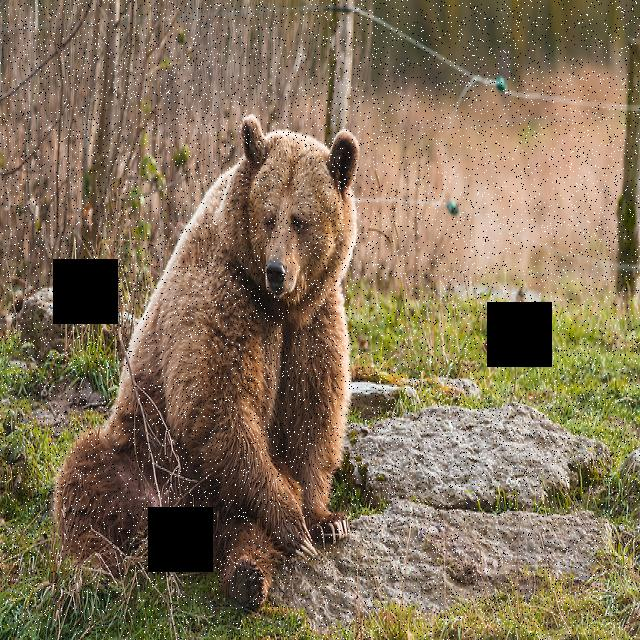Bear: (48, 108, 370, 608)
